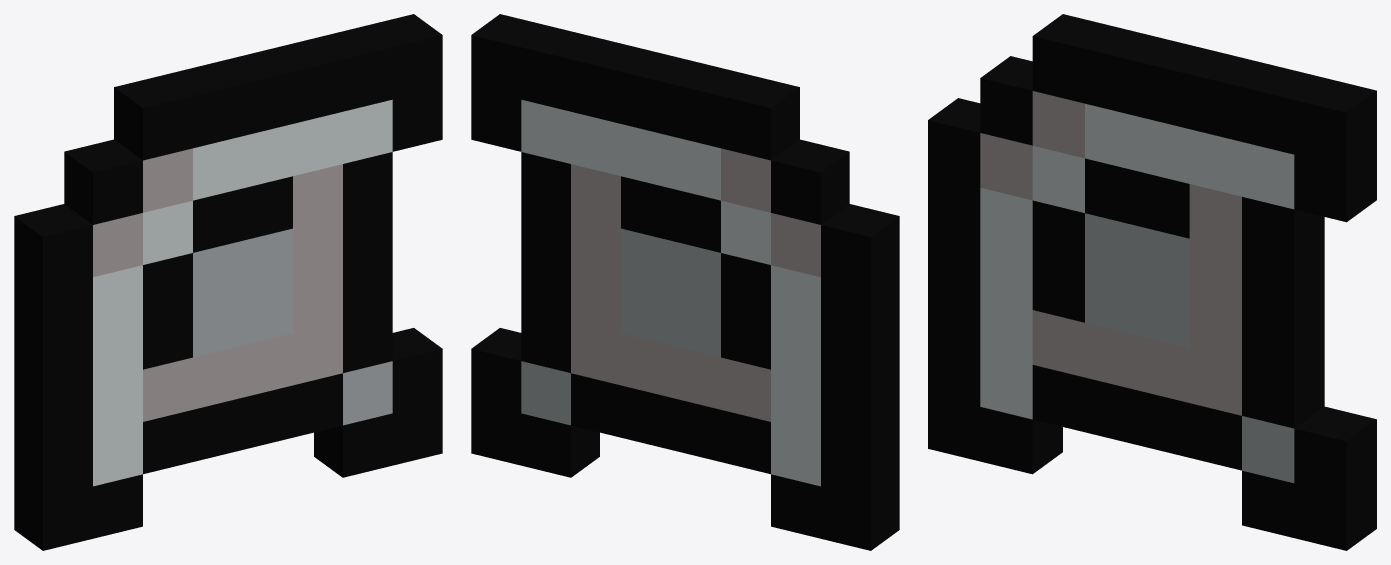
Rendered from Iron Crossbowmetacharging4.glb.
3 renders of one model, left to right at view 1: azimuth 30°, elevation 25°; view 2: azimuth 150°, elevation 25°; view 3: azimuth 330°, elevation 25°, orthographic. The views are drawn at different scales.
Parts seen in each view (by area): view 1: generated(Clone); view 2: generated(Clone); view 3: generated(Clone).
Part boxes in pixels (x1,y1,x2,y2): generated(Clone): (14, 14, 442, 550); generated(Clone): (471, 14, 899, 550); generated(Clone): (928, 14, 1376, 550).
Size of the model in its own units: 8 by 8 by 1.
Materials: 1 (1 with a texture image).
